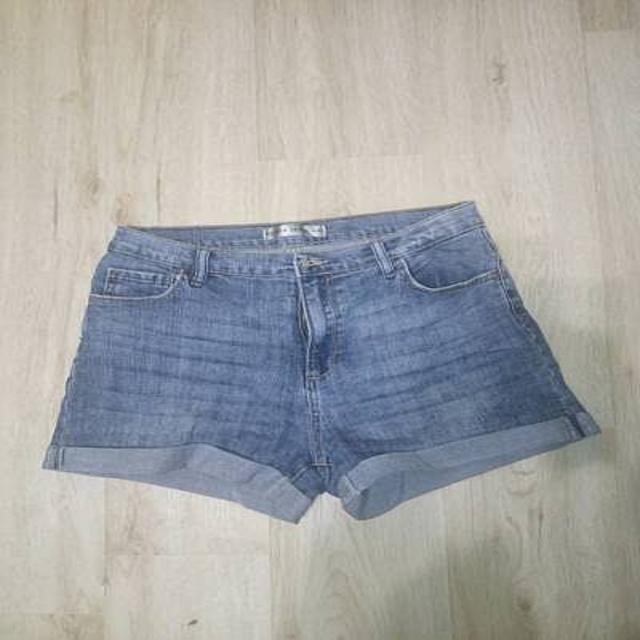SHORT: (27, 185, 614, 531)
